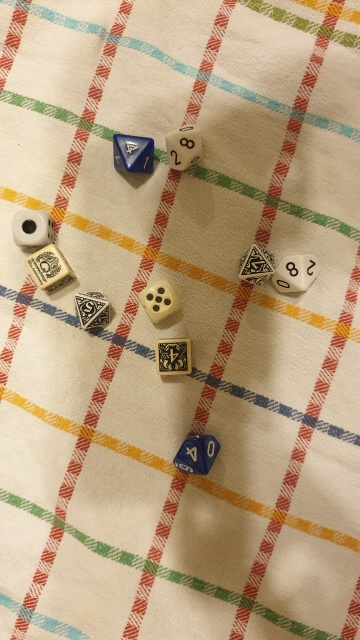d10-4: (169, 423, 221, 483), (102, 129, 156, 178)
d10-8: (268, 248, 323, 302), (161, 120, 208, 175)
d6-1: (10, 208, 56, 247)
d6-5: (132, 275, 181, 325)
d6p-4: (150, 337, 195, 379)
d6p-6: (22, 242, 77, 295)
d8p-5: (67, 288, 117, 336)
d8p-7: (232, 237, 279, 291)
